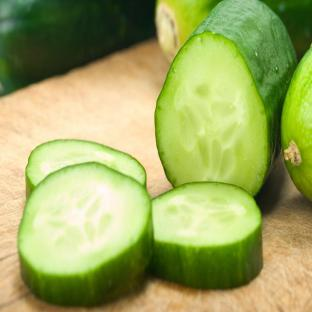Cucumber: (155, 0, 296, 195), (18, 163, 152, 305), (0, 0, 154, 94), (150, 183, 262, 288), (26, 140, 146, 197), (282, 48, 311, 200)
